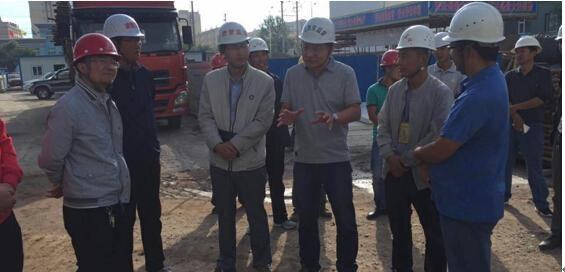NoVest: (44, 98, 126, 208), (281, 61, 359, 158), (199, 68, 274, 166)
